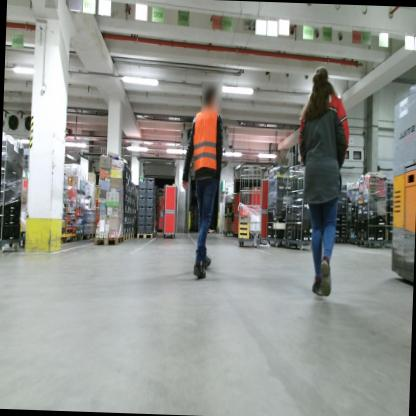pallet: (91, 233, 124, 246), (77, 231, 97, 246), (136, 231, 154, 239), (123, 234, 130, 244), (129, 232, 135, 241)
pallet_truck: (384, 73, 416, 293)
